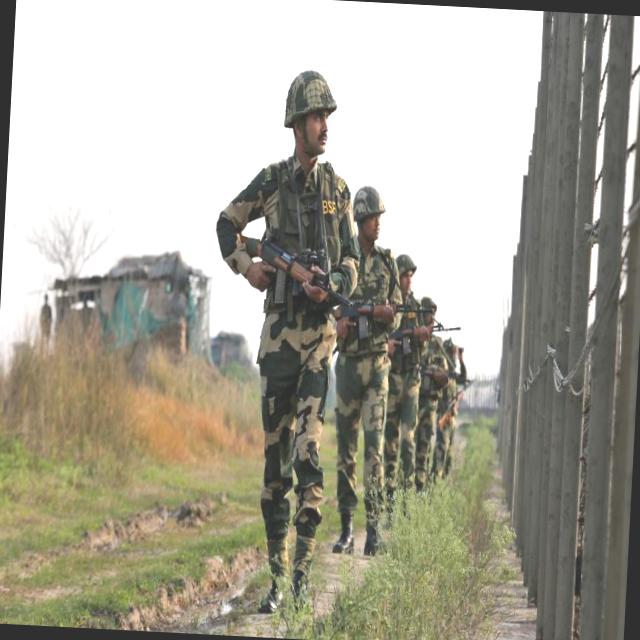long weapon: (242, 235, 356, 328), (345, 284, 443, 338)
